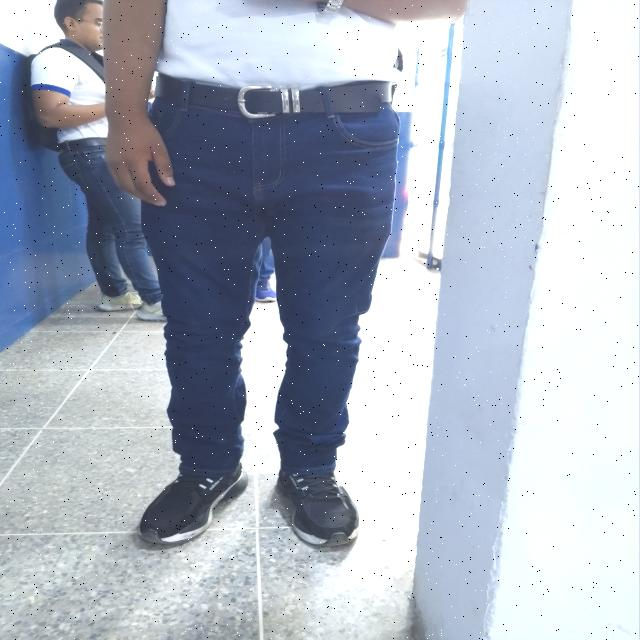pantalon_oscuro: (140, 97, 400, 478), (62, 146, 160, 305)
uniforme_superior: (30, 38, 120, 143)
